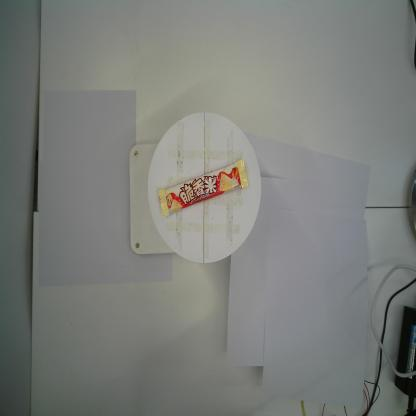Chocolate: (157, 157, 249, 219)
